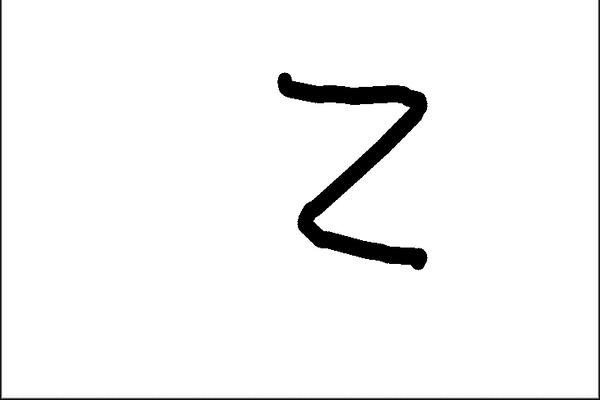Z: (272, 67, 435, 275)
